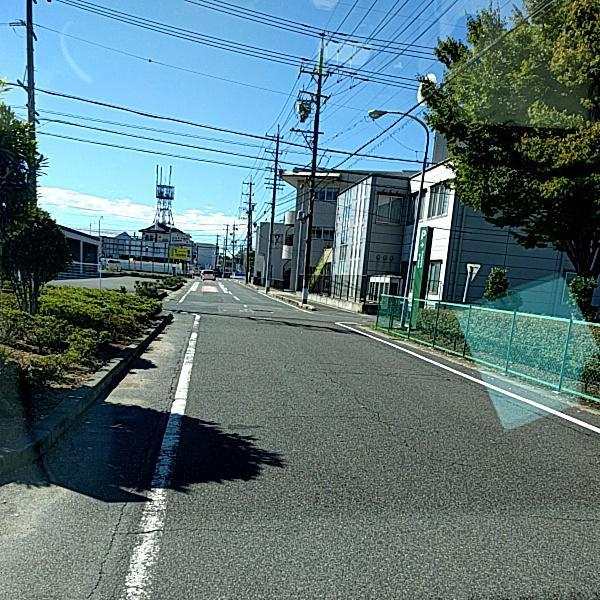D00: (75, 454, 122, 599)
D10: (115, 520, 259, 543), (326, 362, 451, 382), (276, 407, 396, 427), (525, 503, 599, 523)
